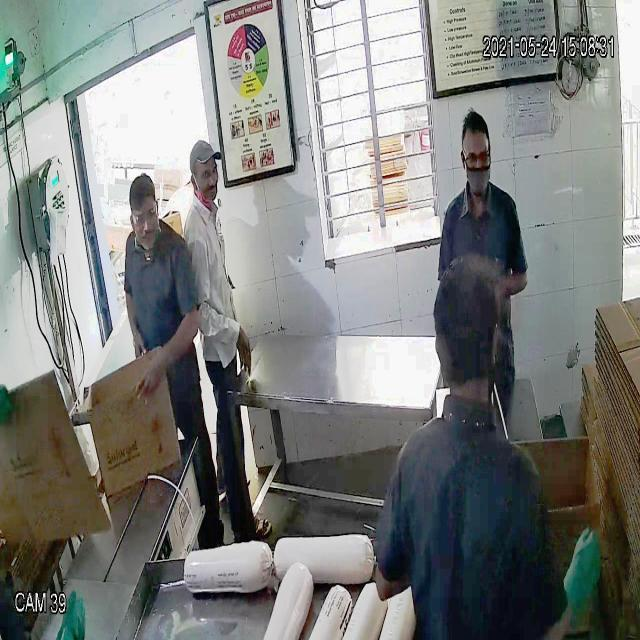glasses: (124, 204, 167, 230), (460, 148, 495, 174)
no-glass: (186, 159, 220, 188)
